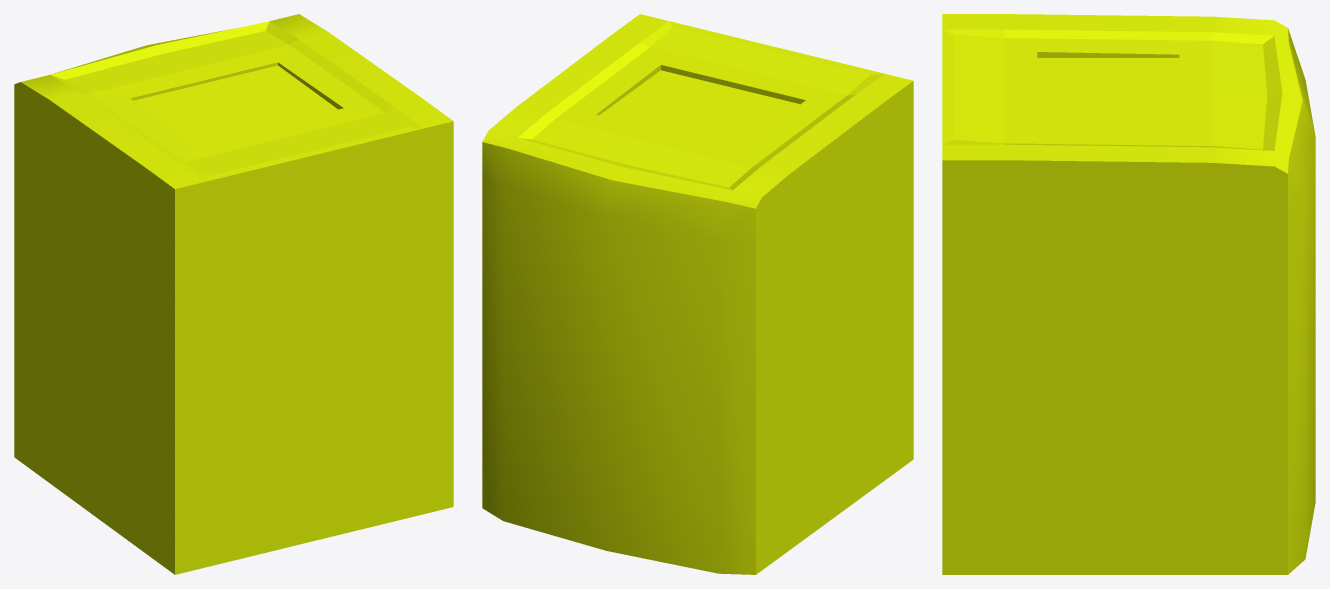
The model's file is WashingMachine.FBX.
3 views of the same model, side by side, from view 1: azimuth 30°, elevation 25°; view 2: azimuth 150°, elevation 25°; view 3: azimuth 270°, elevation 25° (orthographic). The views are drawn at different scales.
Visible parts, largest first — view 1: Box029; view 2: Box029; view 3: Box029.
Boxes of the visible parts, box(x1,y1,x2,y2) form: Box029: box(14, 14, 453, 574); Box029: box(482, 14, 913, 574); Box029: box(942, 14, 1315, 574).
Size of the model in its own units: 1.35 by 1.78 by 1.45.
